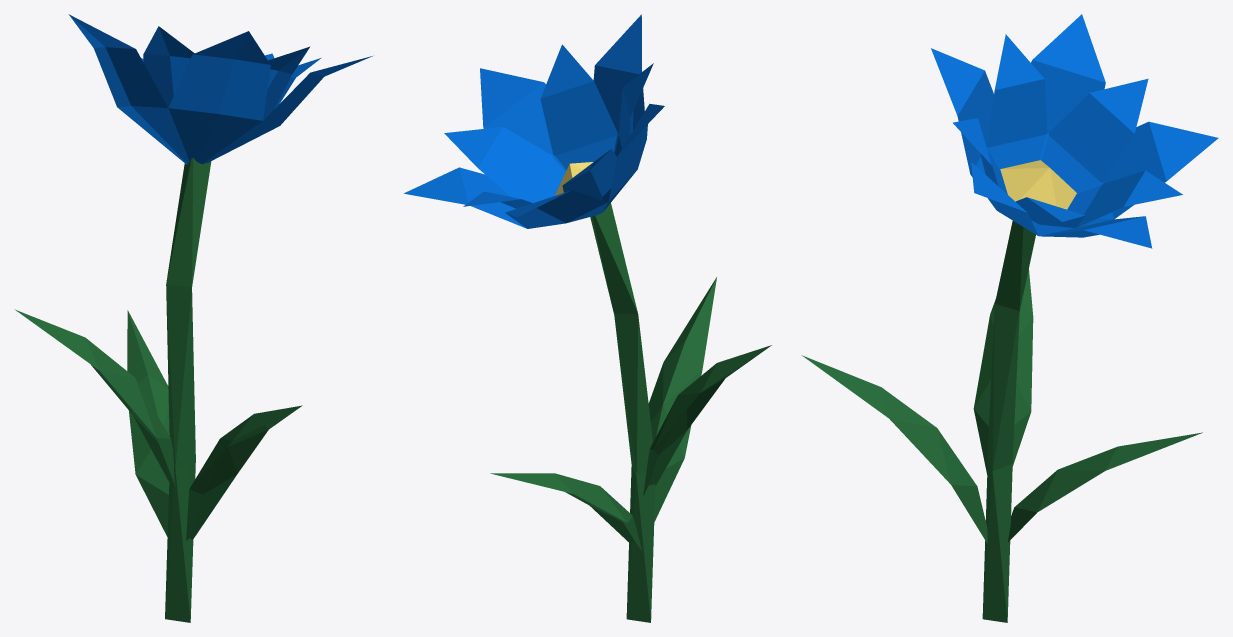
Rendered from Hilly_Prop_Flower_Lily_Blue.obj.
3 views of the same model, side by side, from view 1: azimuth 30°, elevation 25°; view 2: azimuth 150°, elevation 25°; view 3: azimuth 270°, elevation 25° (orthographic). The views are drawn at different scales.
Parts seen in each view (by area): view 1: object87, object42, object1, object34, object76, object54, object78, object14, object75, object50, object26, object22 (+7 smaller); view 2: object87, object1, object62, object34, object21, object66, object42, object2, object68, object35, object56, object60 (+9 smaller); view 3: object87, object66, object1, object80, object34, object42, object27, object86, object84, object18, object56, object35 (+7 smaller).
Part boxes in pixels (x1,y1,x2,y2): object87: [165, 158, 211, 622]; object42: [127, 310, 169, 536]; object1: [186, 405, 302, 540]; object34: [14, 309, 175, 485]; object76: [168, 54, 234, 113]; object54: [219, 59, 270, 120]; object78: [105, 47, 167, 107]; object14: [168, 108, 218, 161]; object75: [197, 114, 262, 163]; object50: [132, 106, 189, 164]; object26: [263, 72, 323, 125]; object22: [143, 54, 173, 107]; object87: [590, 203, 655, 622]; object1: [648, 277, 716, 521]; object62: [540, 81, 617, 155]; object34: [643, 345, 771, 496]; object21: [478, 127, 552, 200]; object66: [463, 190, 608, 228]; object42: [490, 473, 641, 550]; object2: [483, 82, 553, 155]; object68: [480, 68, 543, 127]; object35: [593, 65, 644, 133]; object56: [595, 14, 641, 74]; object60: [540, 44, 593, 98]; object87: [982, 221, 1035, 622]; object66: [1067, 121, 1218, 227]; object1: [801, 355, 987, 543]; object80: [1048, 93, 1134, 182]; object34: [973, 269, 1033, 474]; object42: [1007, 432, 1202, 542]; object27: [987, 79, 1047, 147]; object86: [1000, 160, 1076, 209]; object84: [1032, 14, 1105, 82]; object18: [1031, 60, 1105, 132]; object56: [931, 48, 984, 115]; object35: [957, 71, 993, 173].
Size of the model in its own units: 0.3218 by 0.5545 by 0.3582.
